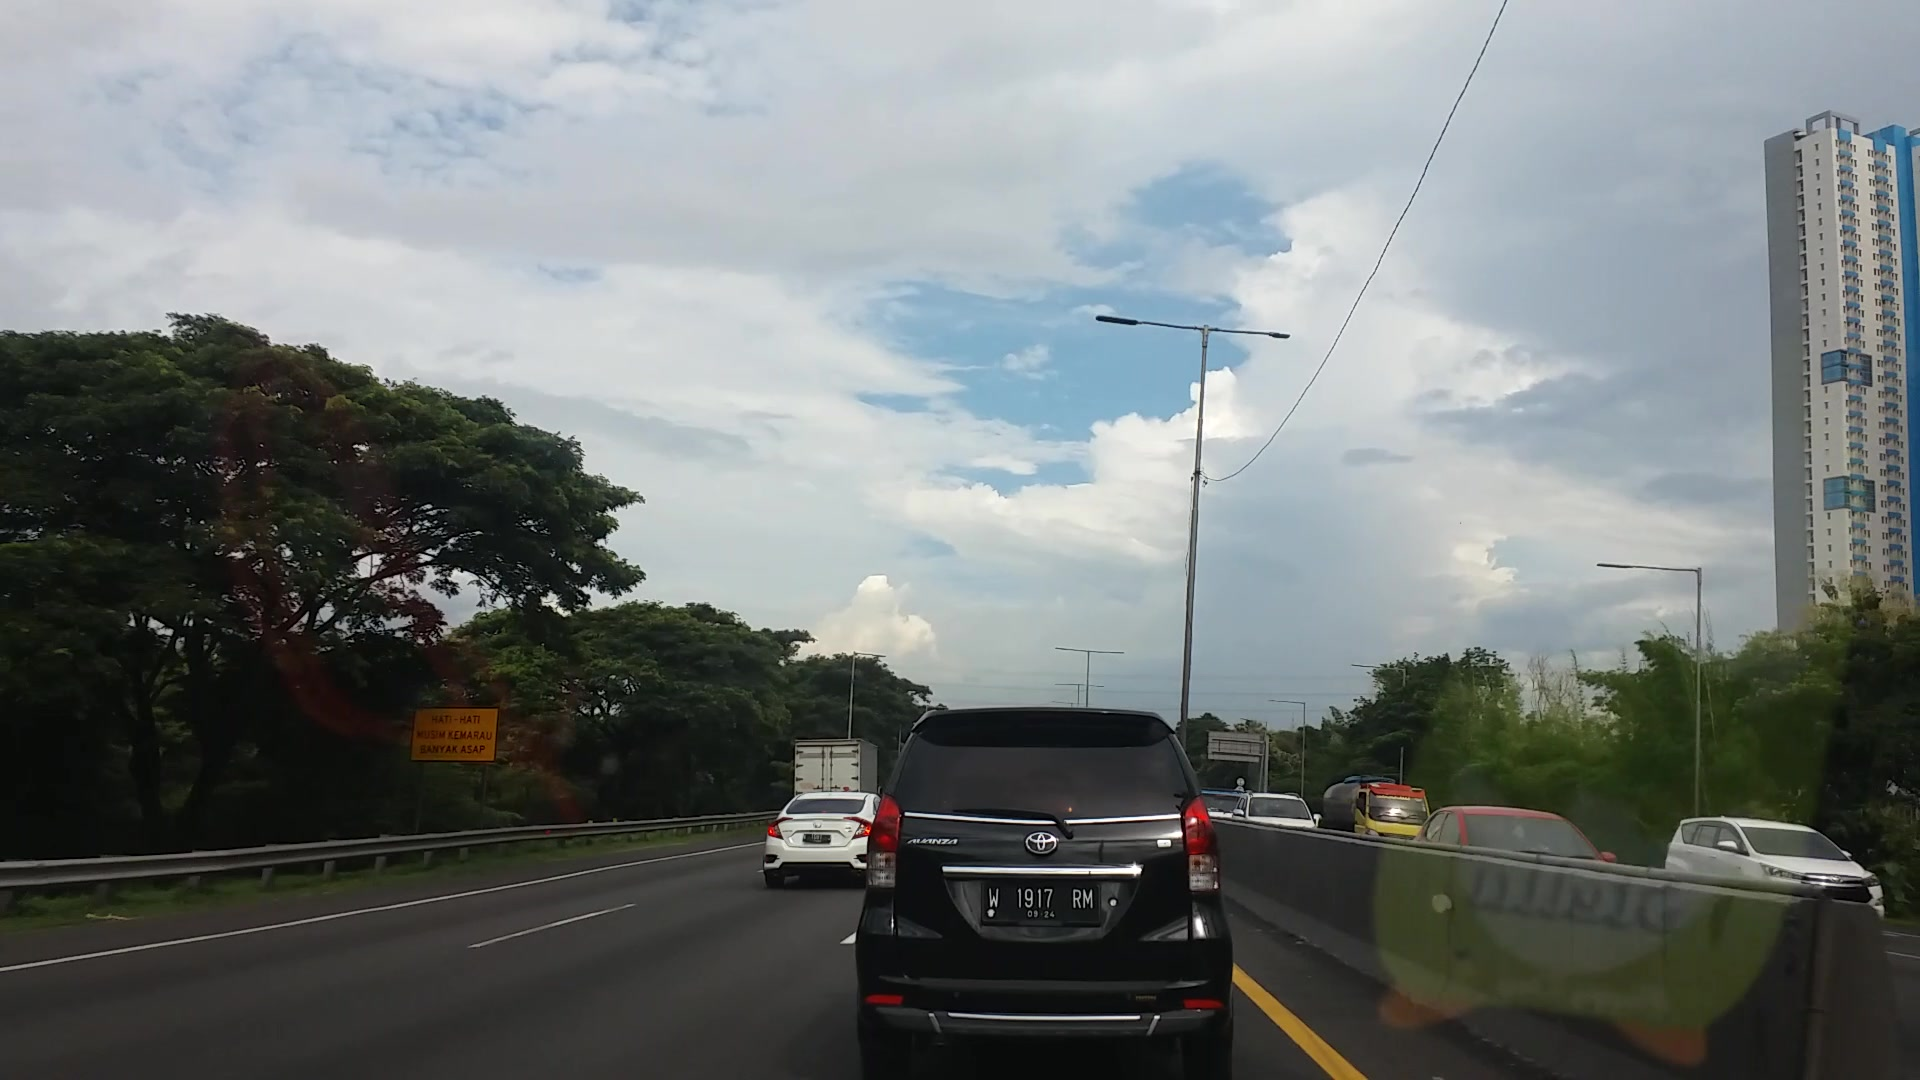plate_positive: (981, 880, 1100, 928)
